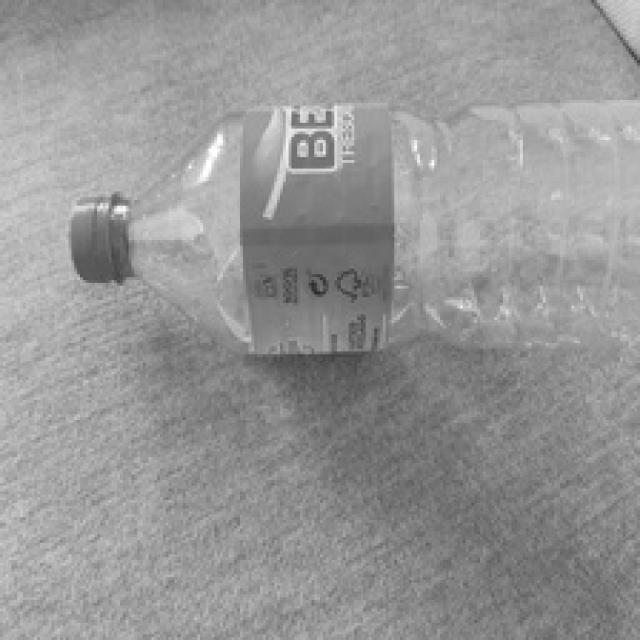plastic bottle: (66, 85, 640, 394)
